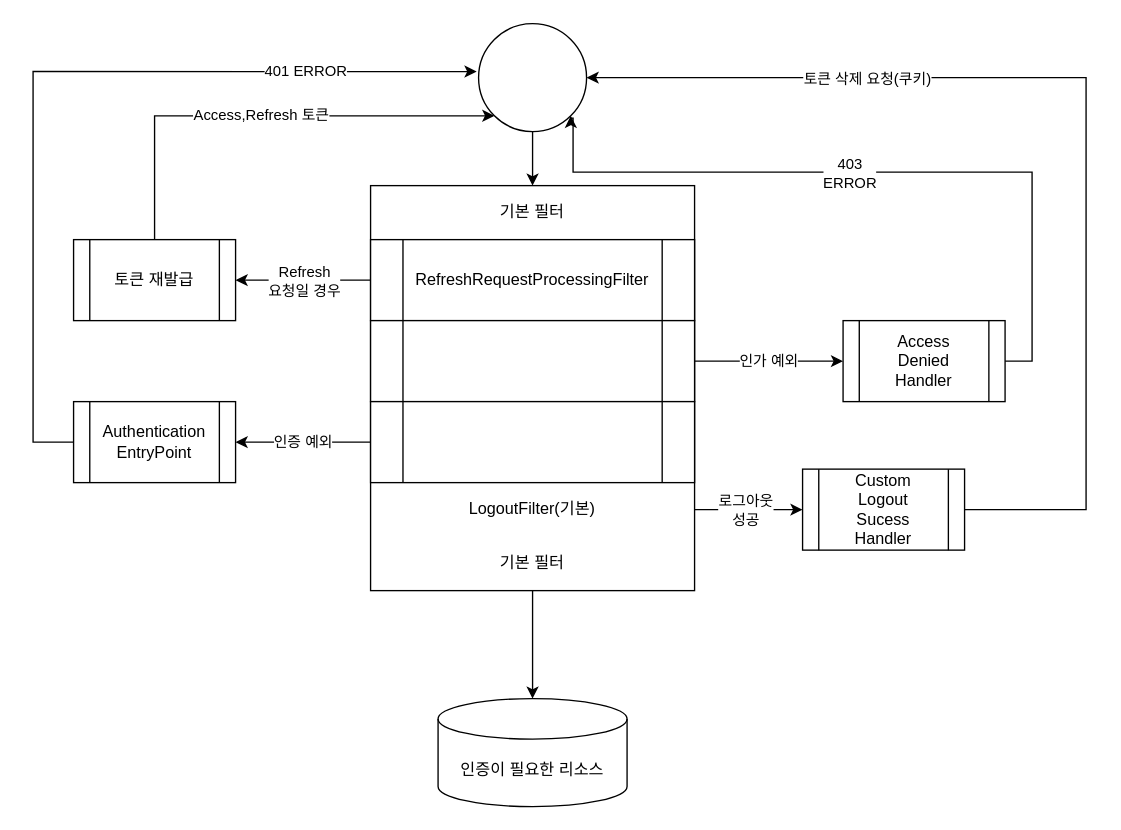
This 1121x830 diagram has some shape labels left out. The centre of each missing label's shape, as x and y in pixels:
JsonUsernamePassword AuthenticationFilter: the point at 532,441
JwtAuthenticationProcessingFilter: the point at 532,360
User: the point at 532,77
